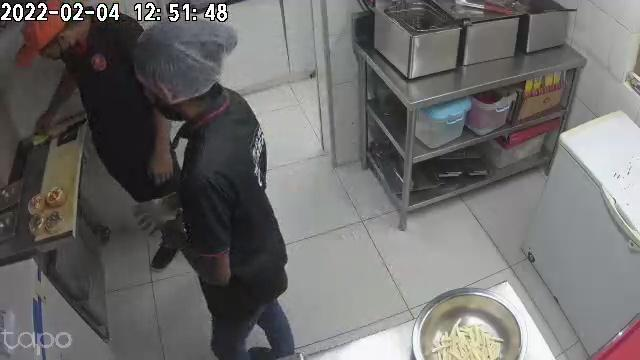no_gloves: (149, 138, 173, 186)
